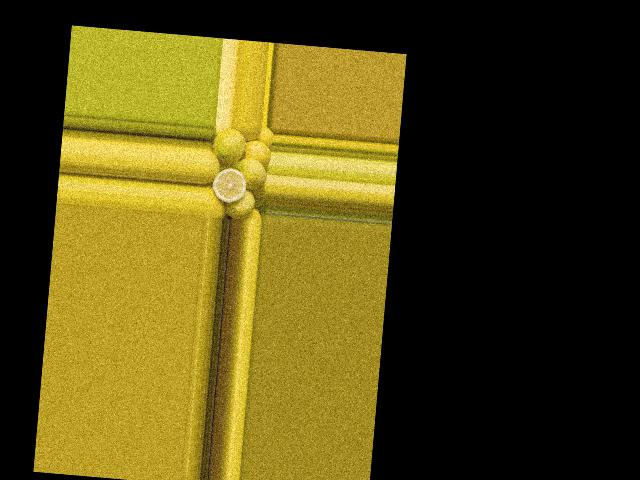lemon: (226, 191, 255, 218)
